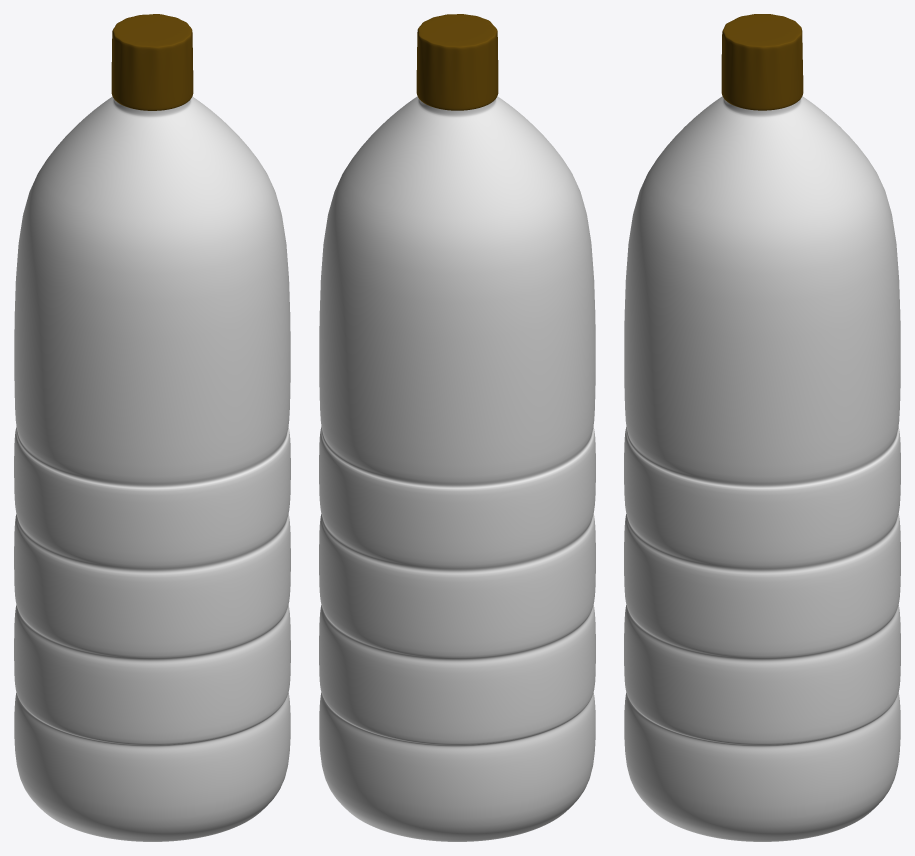
The model's file is oil bottle .fbx.
The picture shows the model from 3 angles, left to right: view 1: azimuth 30°, elevation 25°; view 2: azimuth 150°, elevation 25°; view 3: azimuth 270°, elevation 25°; orthographic projection.
Parts seen in each view (by area): view 1: Cylinder, Cylinder.001; view 2: Cylinder, Cylinder.001; view 3: Cylinder, Cylinder.001.
Boxes of the visible parts, <box> form: Cylinder: <box>14,96,290,841</box>; Cylinder.001: <box>111,14,193,110</box>; Cylinder: <box>319,96,595,841</box>; Cylinder.001: <box>416,14,498,110</box>; Cylinder: <box>624,96,900,841</box>; Cylinder.001: <box>721,14,803,110</box>.
Size of the model in its own units: 199 by 604 by 199.
